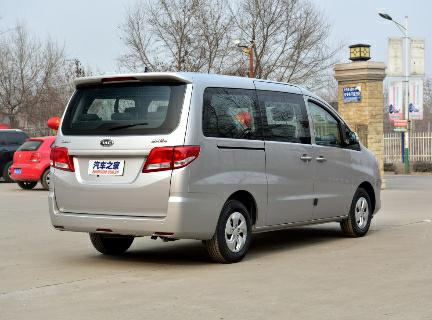江淮-瑞风M4: (45, 69, 386, 263)
